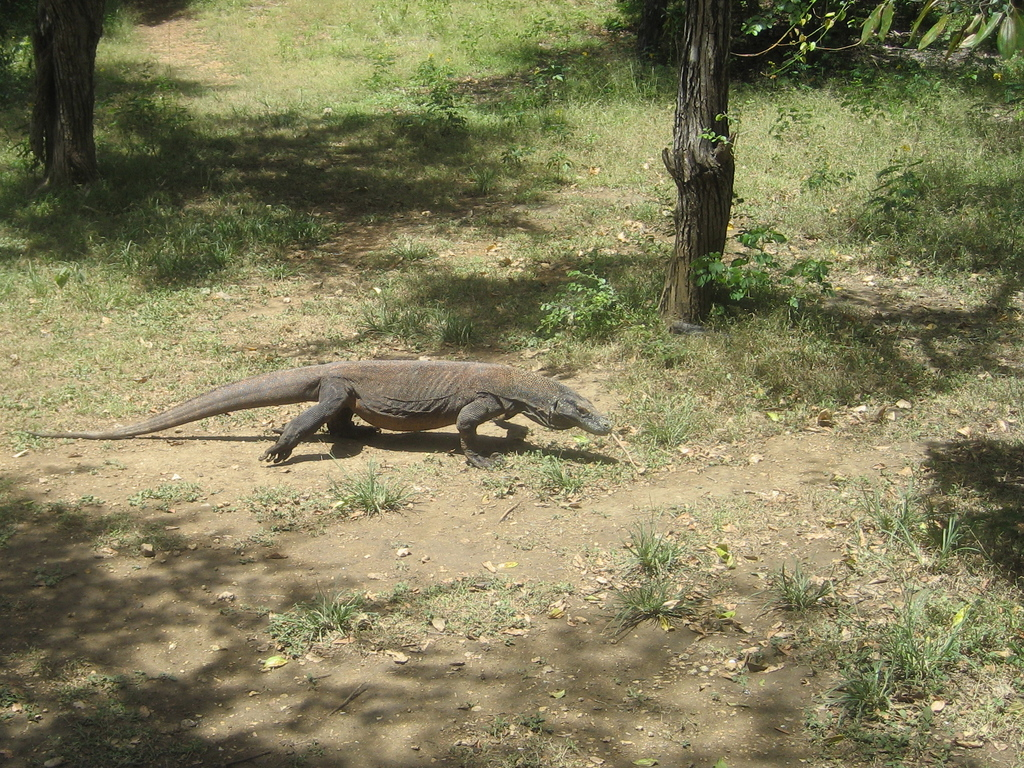Tree: (661, 0, 739, 329), (27, 0, 107, 203)
